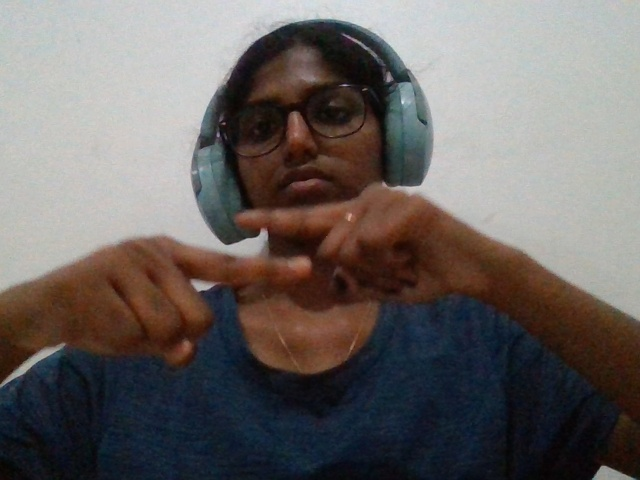Sign: (13, 177, 585, 430)
